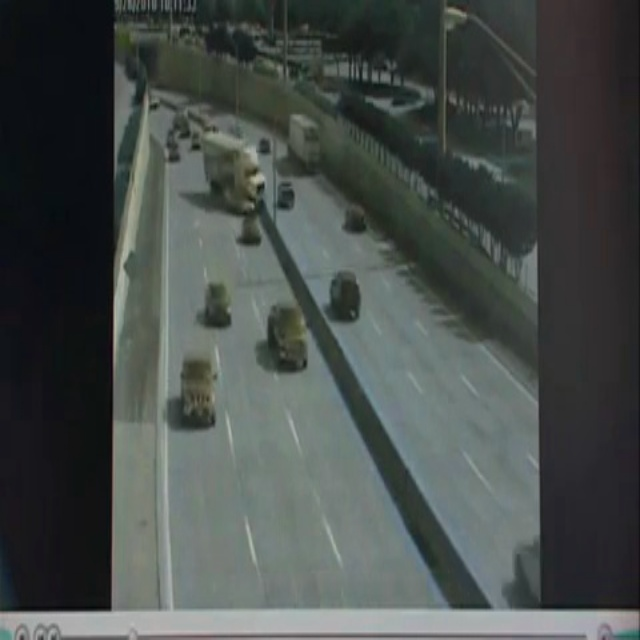acc: (189, 128, 281, 248)
